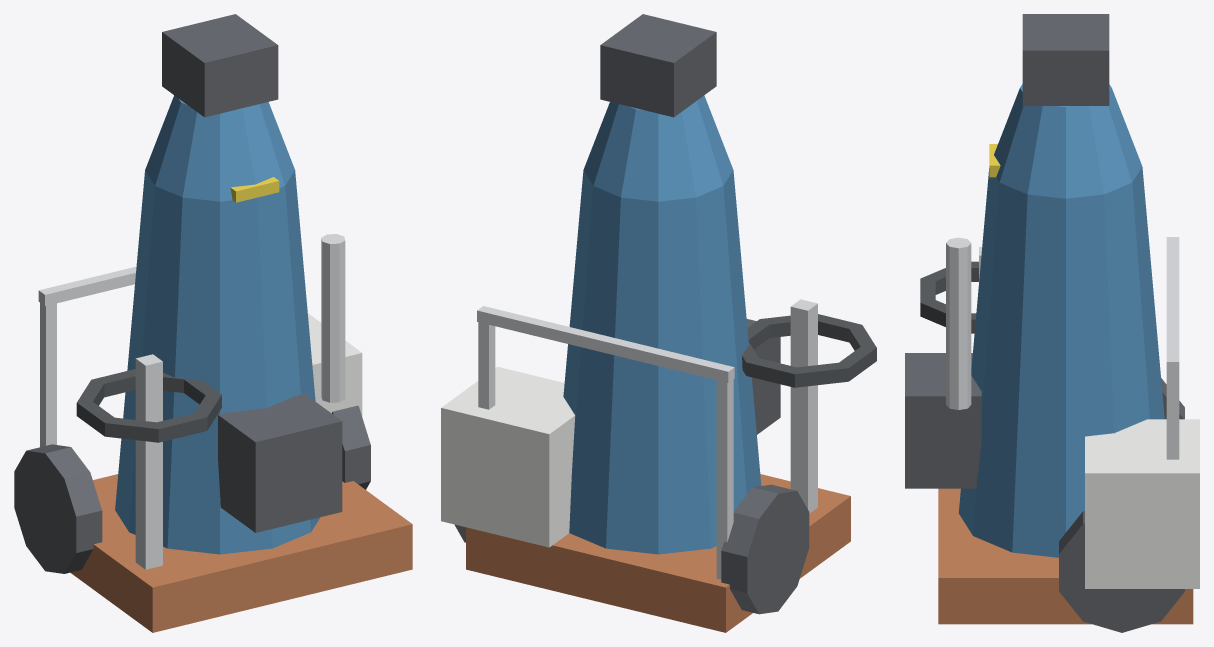
File: shipyard-and-dry-dock-shipyard-and-dry-dock-shot-blast-e981f109__37950.glb
3 renders of one model, left to right at view 1: azimuth 30°, elevation 25°; view 2: azimuth 150°, elevation 25°; view 3: azimuth 270°, elevation 25°, orthographic. The views are drawn at different scales.
Visible parts, largest first — view 1: shipyard-and-dry-dock-shot-blast-unit; view 2: shipyard-and-dry-dock-shot-blast-unit; view 3: shipyard-and-dry-dock-shot-blast-unit.
Boxes of the visible parts, <box> form: shipyard-and-dry-dock-shot-blast-unit: <box>14,14,412,632</box>; shipyard-and-dry-dock-shot-blast-unit: <box>441,14,876,632</box>; shipyard-and-dry-dock-shot-blast-unit: <box>905,14,1199,632</box>.
Bounding box in the file's own units: 1.47 × 2.28 × 1.15.
